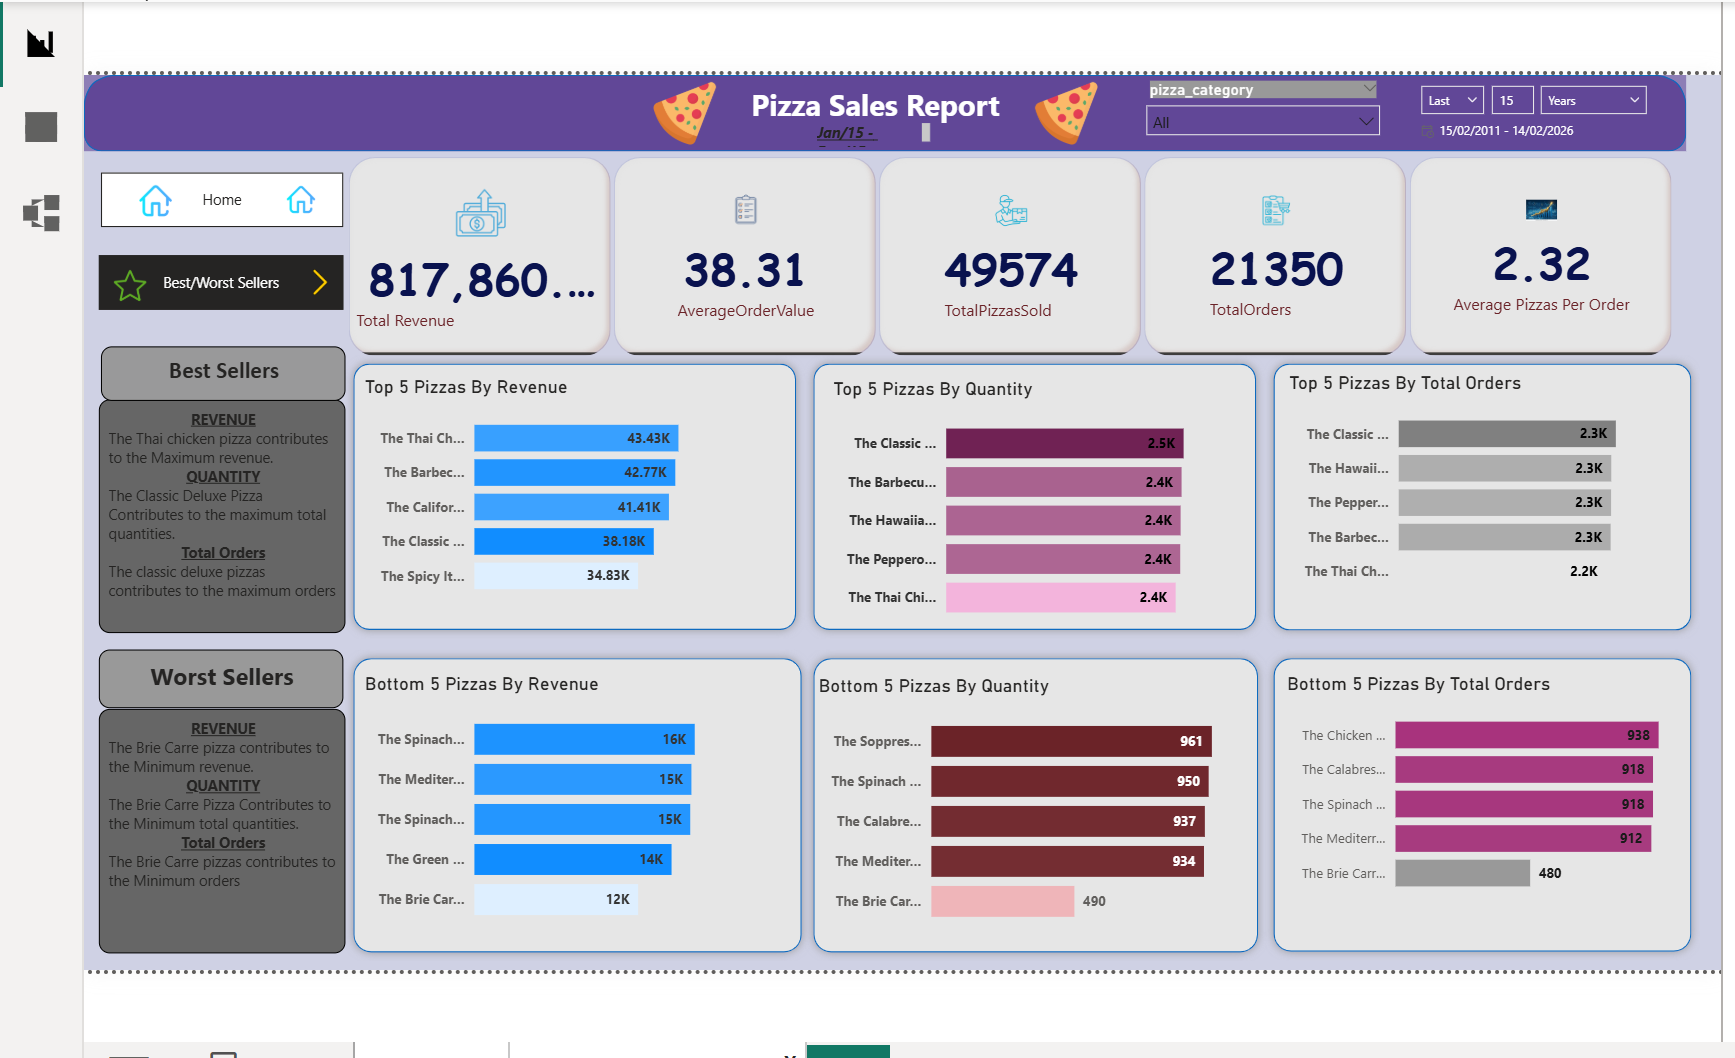

This screenshot's page, from the dashboard's own definition file:
{"tool":"powerbi","page":{"name":"Best/Worst Sellers","canvas":[1500,820],"ordinal":1},"visuals":[{"type":"cardVisual","fields":{"Data":["pizza_sales.Total Revenue","pizza_sales.AverageOrderValue","pizza_sales.TotalPizzasSold","pizza_sales.TotalOrders","pizza_sales.Average Pizzas Per Order"]},"box":[217.5,69.9,1282,192.3],"z":0},{"type":"shape","box":[0,0,1468,70],"z":1000},{"type":"textbox","box":[602,4,246,60],"z":2000},{"type":"textbox","box":[14,298,226,214],"z":3000},{"type":"textbox","box":[666,38,114,32],"z":4000},{"type":"image","box":[252,0,596,70],"z":5000},{"type":"image","box":[602,0,596,70],"z":6000},{"type":"shape","box":[238,256.6,421.5,260],"z":7000},{"type":"shape","box":[238,526.9,426.6,285.5],"z":8000},{"type":"textbox","box":[16,248,224,50],"z":9000},{"type":"textbox","box":[14,526,224,54],"z":10000},{"type":"textbox","box":[14,580,226,224],"z":11000},{"type":"slicer","fields":{"Values":["pizza_sales.pizza_category"]},"box":[964.3,0,234,63.1],"z":12000},{"type":"slicer","fields":{"Values":["pizza_sales.order_date"]},"box":[1212.5,0,234,63.1],"z":13000},{"type":"shape","box":[1082.3,256.3,398.7,260.4],"z":14000},{"type":"shape","box":[1082.3,526.9,398.7,284.8],"z":15000},{"type":"shape","box":[659.5,256.6,421.5,260],"z":16000},{"type":"shape","box":[659.5,526.9,423.2,285.5],"z":17000},{"type":"barChart","title":"Top 5 Pizzas By Revenue","fields":{"Category":["pizza_sales.pizza_name"],"Y":["pizza_sales.Total Revenue"]},"box":[252.3,276.7,368.2,213.6],"z":18000},{"type":"barChart","title":"Bottom 5 Pizzas By Revenue","fields":{"Category":["pizza_sales.pizza_name"],"Y":["pizza_sales.Total Revenue"]},"box":[252.9,548,368.9,242.4],"z":19000},{"type":"barChart","title":"Top 5 Pizzas By Quantity","fields":{"Category":["pizza_sales.pizza_name"],"Y":["pizza_sales.TotalPizzasSold"]},"box":[681.6,277,379,234.6],"z":20000},{"type":"barChart","title":"Bottom 5 Pizzas By Quantity","fields":{"Category":["pizza_sales.pizza_name"],"Y":["pizza_sales.TotalPizzasSold"]},"box":[667.3,549.3,380.4,242.1],"z":21000},{"type":"barChart","title":"Top 5 Pizzas By Total Orders","fields":{"Category":["pizza_sales.pizza_name"],"Y":["pizza_sales.TotalOrders"]},"box":[1098.7,271.4,366.2,213.4],"z":22000},{"type":"barChart","title":"Bottom 5 Pizzas By Total Orders","fields":{"Category":["pizza_sales.pizza_name"],"Y":["pizza_sales.TotalOrders"]},"box":[1098,548,366,214],"z":23000},{"type":"pageNavigator","box":[14,166,224,50],"z":24000},{"type":"pageNavigator","box":[16,90,222,50],"z":25000},{"type":"image","box":[42,96,46,40],"z":26000},{"type":"image","box":[180,90,36,50],"z":27000},{"type":"image","box":[18,172,50,40],"z":28000},{"type":"image","box":[194,172,44,34],"z":29000}]}

Visuals, with their boxes on the page's 1500x820 design canvas (x1, y1, x2, y2). These are canvas units, not pixel positions in the 1735x1058 screenshot, which may show the page scaled, cropped or inside an application window:
cardVisual - pizza_sales.Total Revenue x pizza_sales.AverageOrderValue: [218,70,1500,262]
shape: [0,0,1468,70]
textbox: [602,4,848,64]
textbox: [14,298,240,512]
textbox: [666,38,780,70]
image: [252,0,848,70]
image: [602,0,1198,70]
shape: [238,257,660,517]
shape: [238,527,665,812]
textbox: [16,248,240,298]
textbox: [14,526,238,580]
textbox: [14,580,240,804]
slicer - pizza_sales.pizza_category: [964,0,1198,63]
slicer - pizza_sales.order_date: [1212,0,1446,63]
shape: [1082,256,1481,517]
shape: [1082,527,1481,812]
shape: [660,257,1081,517]
shape: [660,527,1083,812]
"Top 5 Pizzas By Revenue" barChart: [252,277,620,490]
"Bottom 5 Pizzas By Revenue" barChart: [253,548,622,790]
"Top 5 Pizzas By Quantity" barChart: [682,277,1061,512]
"Bottom 5 Pizzas By Quantity" barChart: [667,549,1048,791]
"Top 5 Pizzas By Total Orders" barChart: [1099,271,1465,485]
"Bottom 5 Pizzas By Total Orders" barChart: [1098,548,1464,762]
pageNavigator: [14,166,238,216]
pageNavigator: [16,90,238,140]
image: [42,96,88,136]
image: [180,90,216,140]
image: [18,172,68,212]
image: [194,172,238,206]
